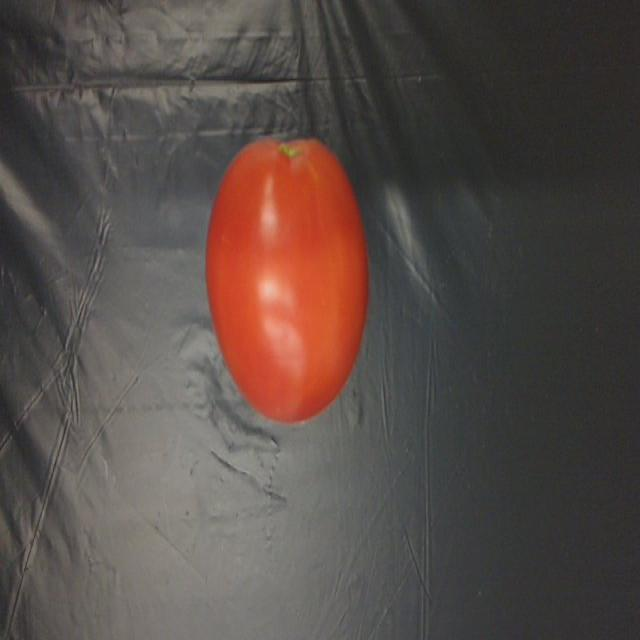kirmizi: (207, 124, 370, 434)
